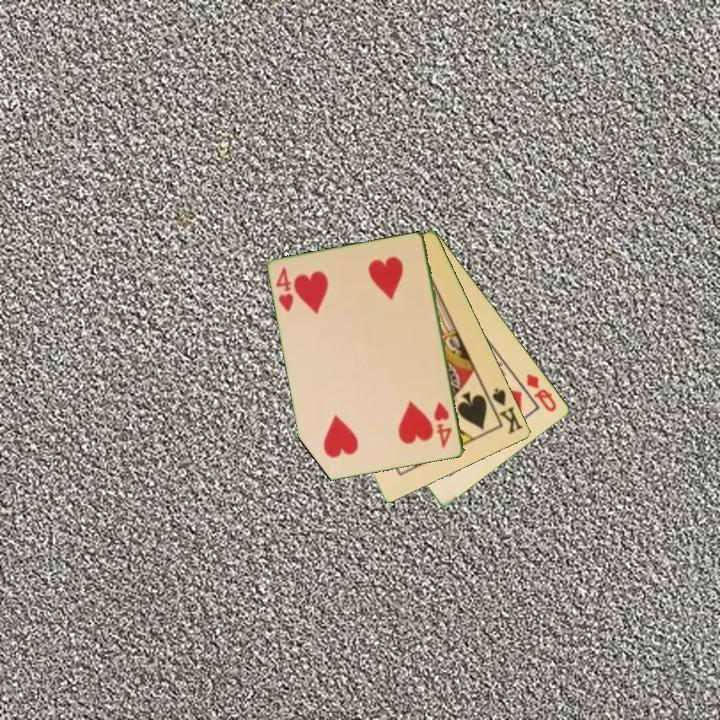4h: (431, 398, 455, 451), (273, 264, 297, 315)
Ks: (483, 385, 526, 437)
Qd: (523, 370, 560, 415)
